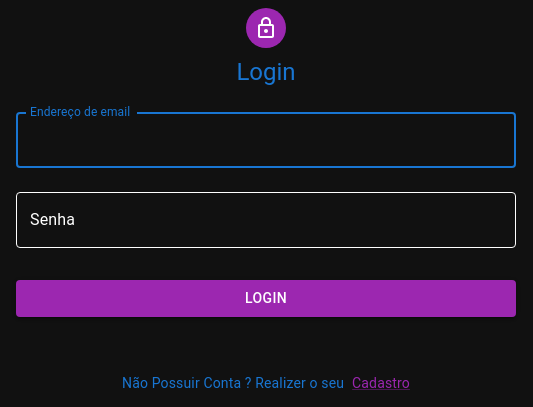
it: Login Page › should return error message, if the password field is empty
In the field labelled "Endereço de email": [266, 140] box [16, 112, 516, 168], type "email@teste.com"
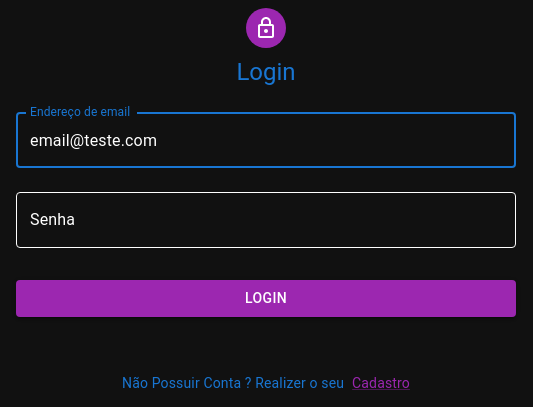
Click the button "Login": [266, 298] box [16, 280, 516, 316]
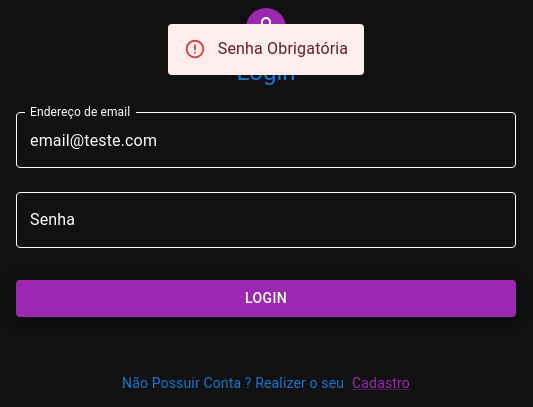
Check: the text "Senha Obrigatória" is shown, box [218, 39, 348, 58]
